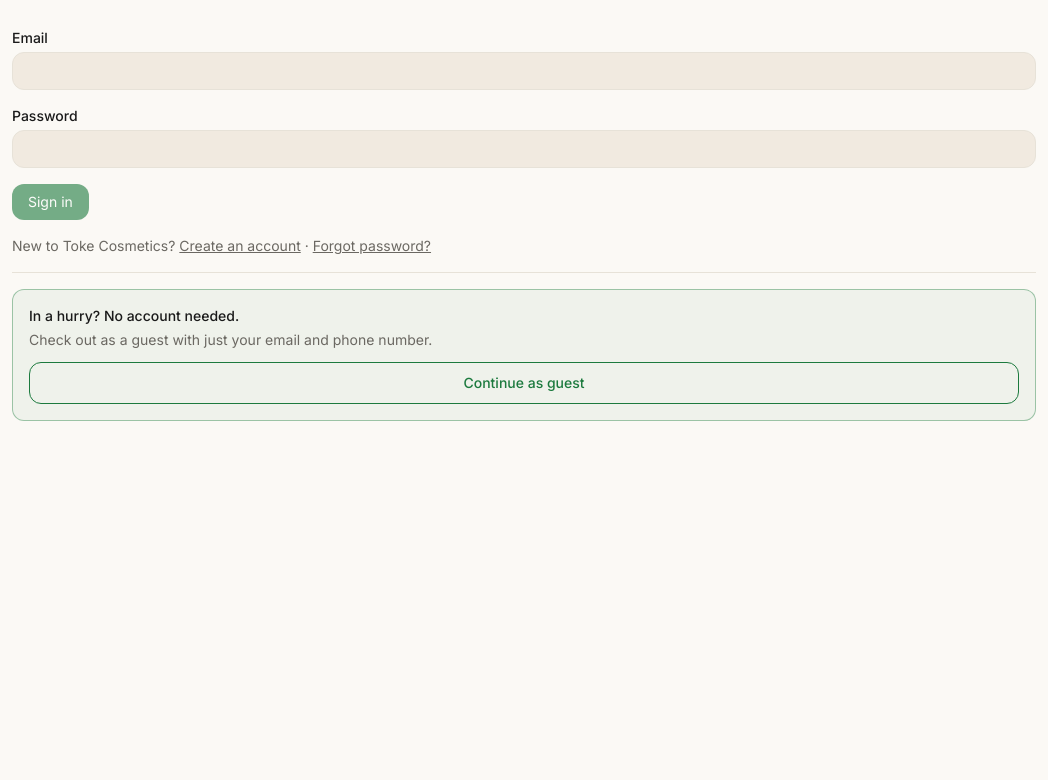
Scenario: SignInStep › registers a new email and completes the step
Click the button "Create an account": (240, 246) [179, 236, 301, 256]
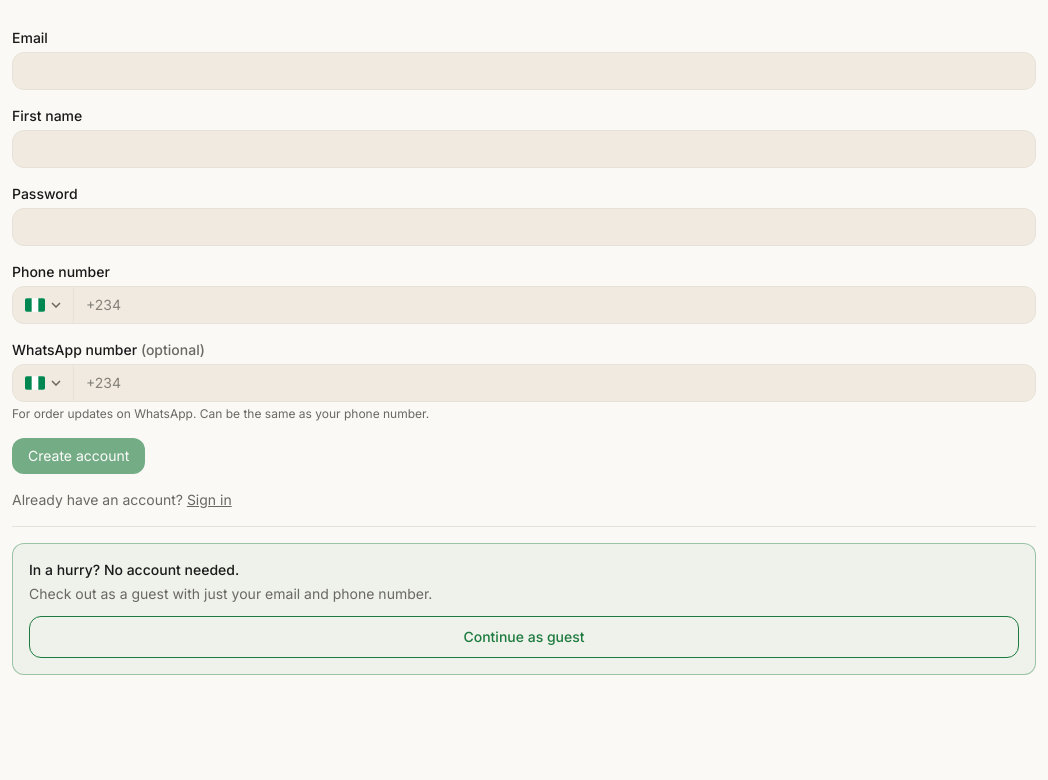
Expected: the field labelled "First name" is shown, [12, 130, 1036, 168]
In the field labelled "Email": (524, 71) [12, 52, 1036, 90], type "new@example.com"
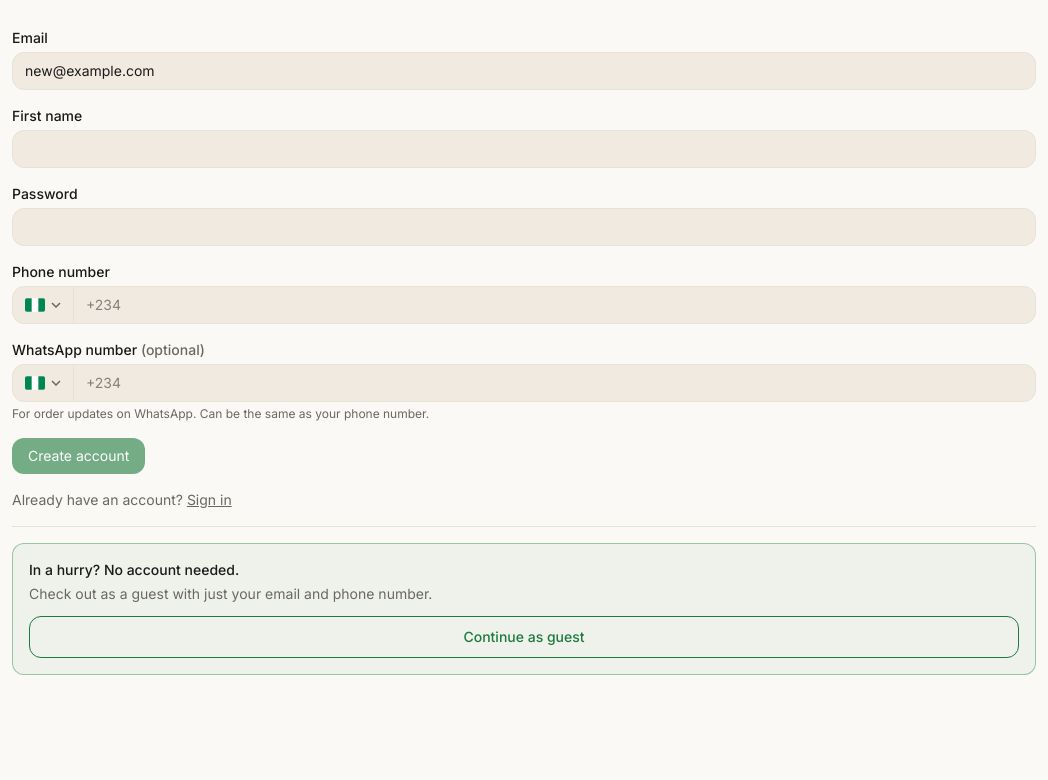
In the field labelled "First name": (524, 149) [12, 130, 1036, 168], type "Jane"
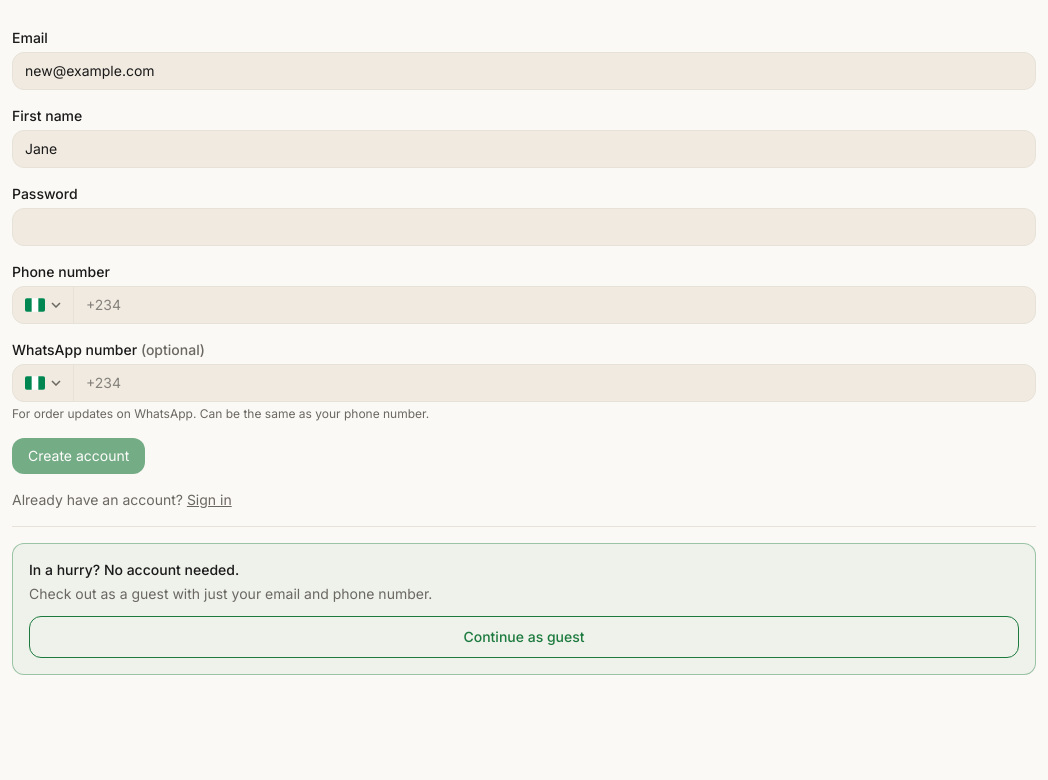
In the password field labelled "Password": (524, 227) [12, 208, 1036, 246], type "Str0ngPassw0rd!"
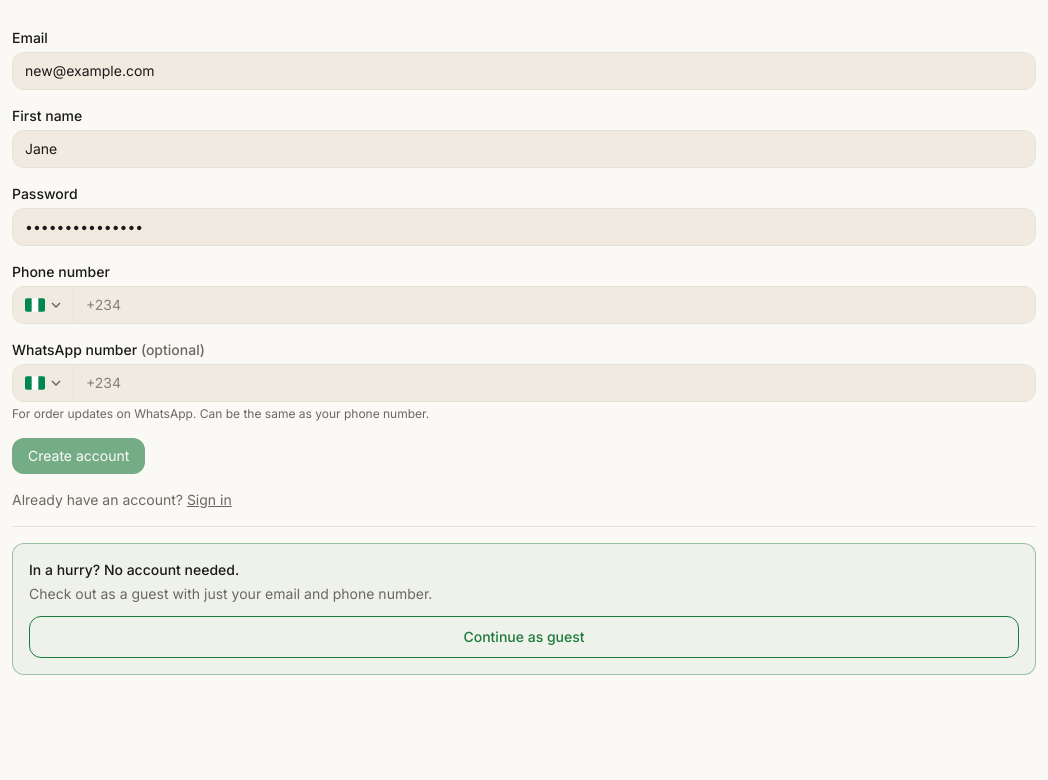
In the field labelled "Phone number": (554, 305) [74, 287, 1035, 323], type "+2348023900964"
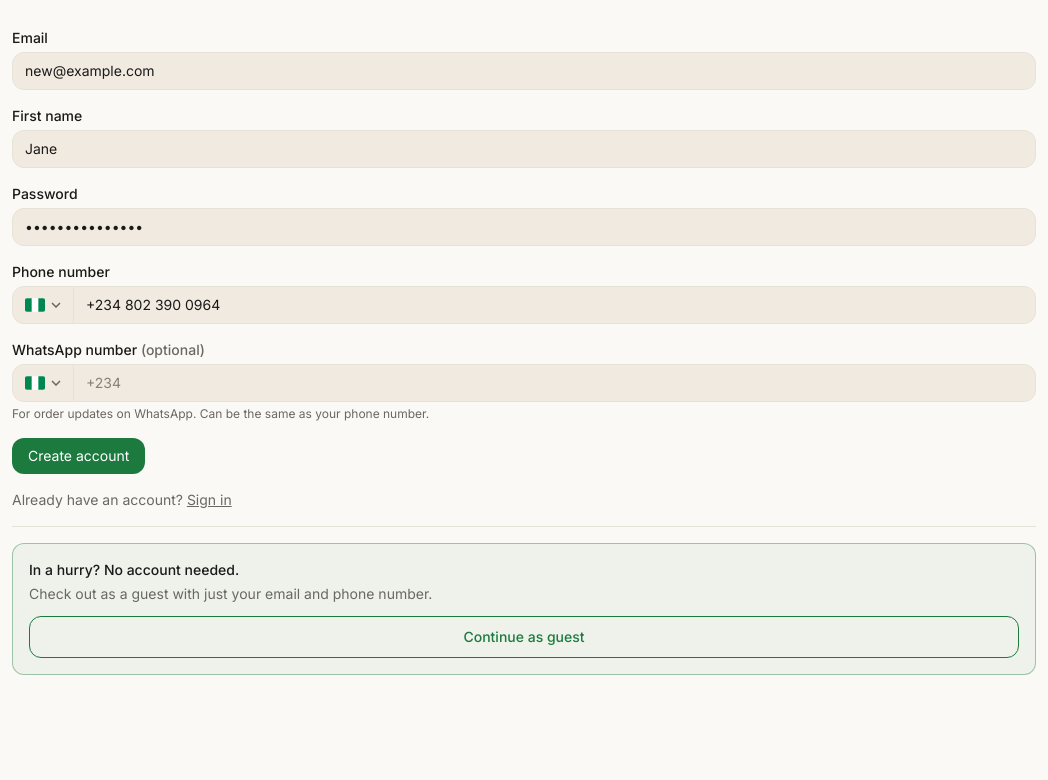
Click the button "Create account": (79, 456) [12, 438, 145, 474]
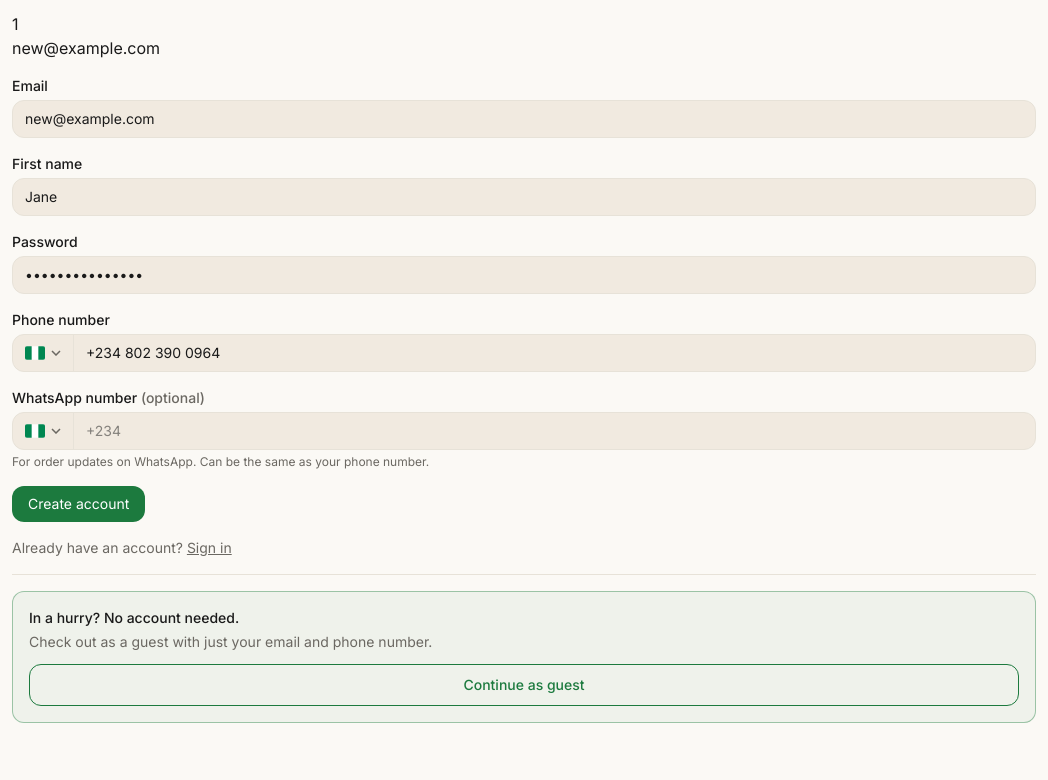
Now the text with test id "completed" reads "1", box [12, 14, 18, 34]
Now the text with test id "userEmail" reads "new@example.com", box [12, 38, 160, 58]
